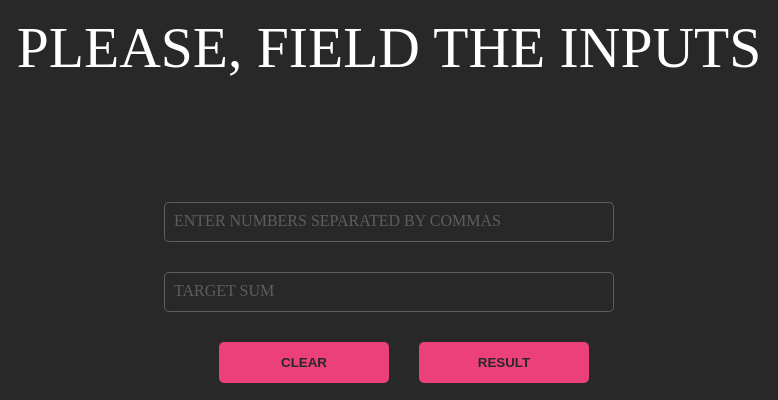
Test: Algorithm component › clears state correctly when clear button is clicked
In the field named "Enter numbers separated by commas": (389, 222) [164,202,614,242], type "1,2,3"
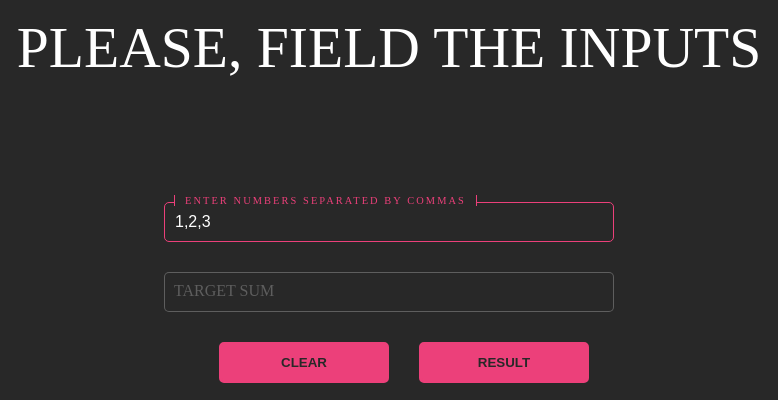
In the field named "Target sum": (389, 292) [164,272,614,312], type "5"
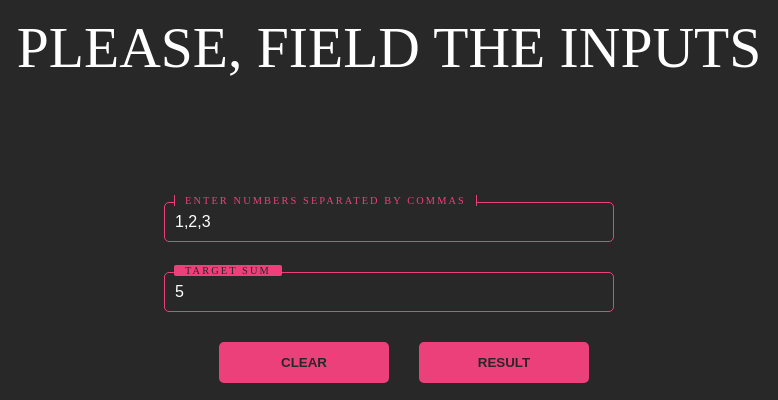
Click the button "clear": (304, 362) [219,342,389,382]
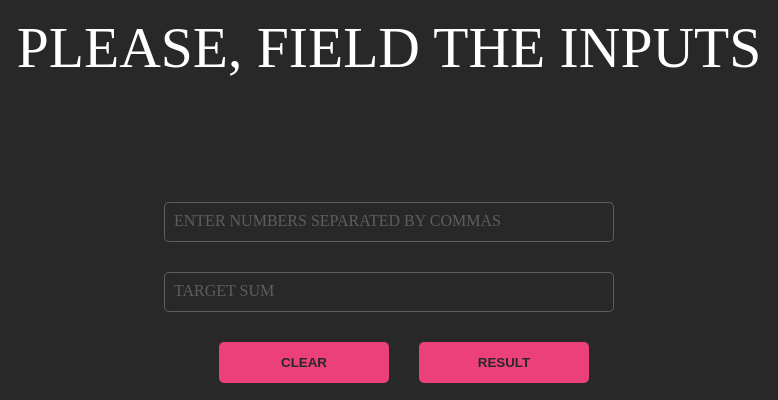
Expected: the text "Please, field the inputs" is shown, [17,16,761,79]
Expected: the field named "Enter numbers separated by commas" is empty, [164,202,614,242]
Expected: the field named "Target sum" is empty, [164,272,614,312]
